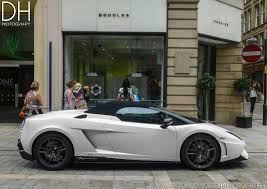Lamborghini: (27, 102, 245, 166)
